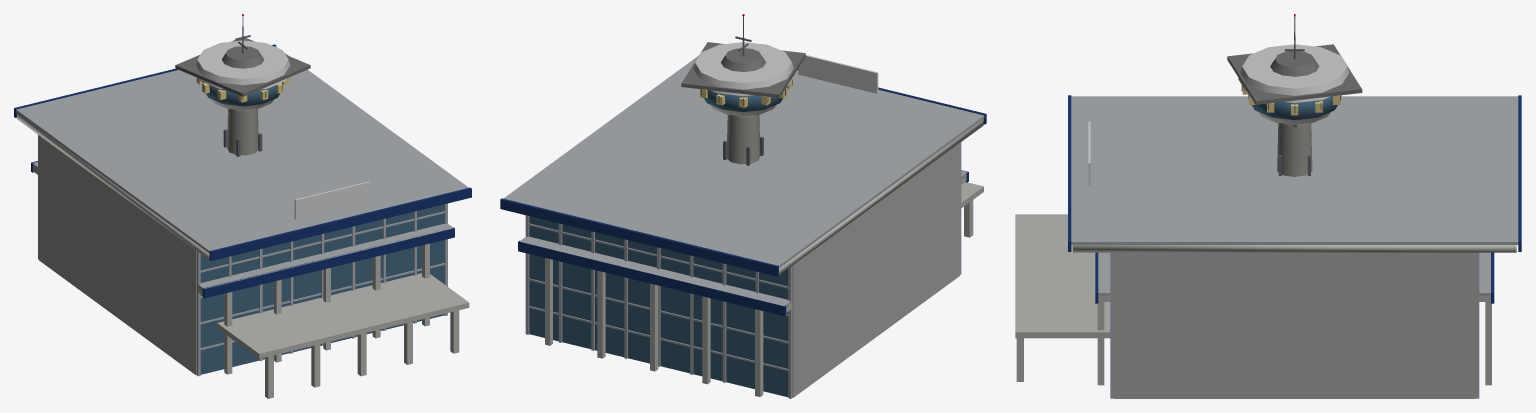
Rendered from airport_kit.glb.
3 views of the same model, side by side, from view 1: azimuth 30°, elevation 25°; view 2: azimuth 150°, elevation 25°; view 3: azimuth 270°, elevation 25° (orthographic). The views are drawn at different scales.
Parts seen in each view (by area): view 1: ap_core, ap_terminal, ap_tower, ap_tower_lit; view 2: ap_core, ap_terminal, ap_tower, ap_tower_lit; view 3: ap_core, ap_terminal, ap_tower.
Boxes of the visible parts, x1,y1,x2,y2 form: ap_core: (14, 44, 471, 398); ap_terminal: (31, 161, 454, 374); ap_tower: (175, 16, 310, 156); ap_tower_lit: (196, 14, 289, 102); ap_core: (500, 55, 986, 398); ap_terminal: (518, 170, 968, 396); ap_tower: (681, 16, 805, 165); ap_tower_lit: (700, 14, 792, 107); ap_core: (1015, 95, 1521, 398); ap_terminal: (1095, 252, 1494, 398); ap_tower: (1227, 16, 1362, 176).
Size of the model in its own units: 42.2 by 45.7 by 61.6.
